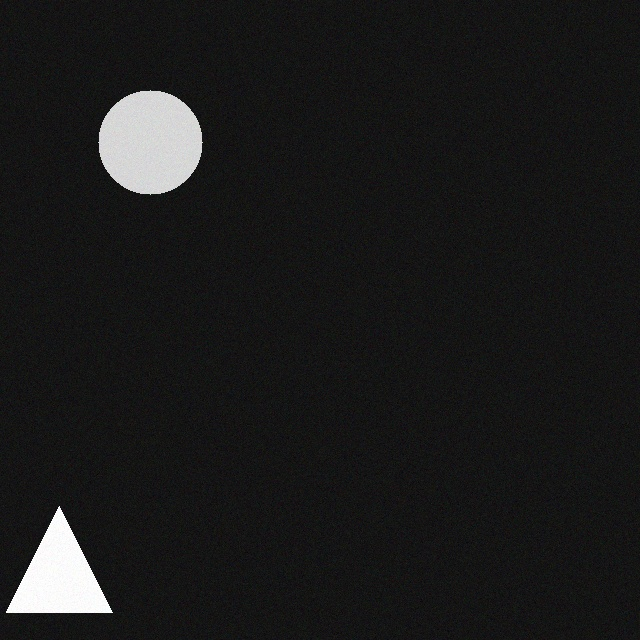circle: (109, 98, 213, 202)
triangle: (17, 514, 123, 620)
